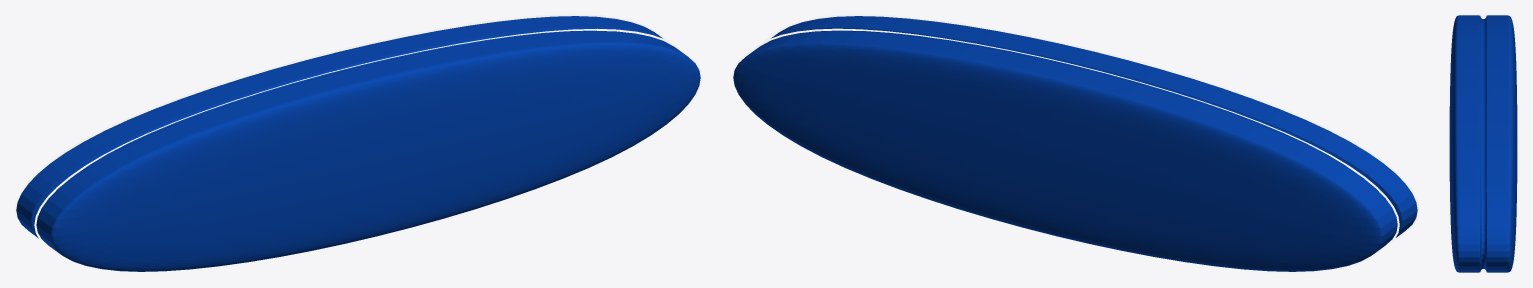
The model's file is Pills2.glb.
The picture shows the model from 3 angles, left to right: view 1: azimuth 30°, elevation 25°; view 2: azimuth 150°, elevation 25°; view 3: azimuth 270°, elevation 25°; orthographic projection. The views are drawn at different scales.
Parts seen in each view (by area): view 1: PillCapsule; view 2: PillCapsule; view 3: PillCapsule.
Part boxes in pixels (box(x1,y1,x2,y2)): PillCapsule: box(14, 14, 702, 273); PillCapsule: box(731, 14, 1419, 273); PillCapsule: box(1448, 14, 1518, 273).
Bounding box in the file's own units: 1.83 × 0.4337 × 0.2407.
